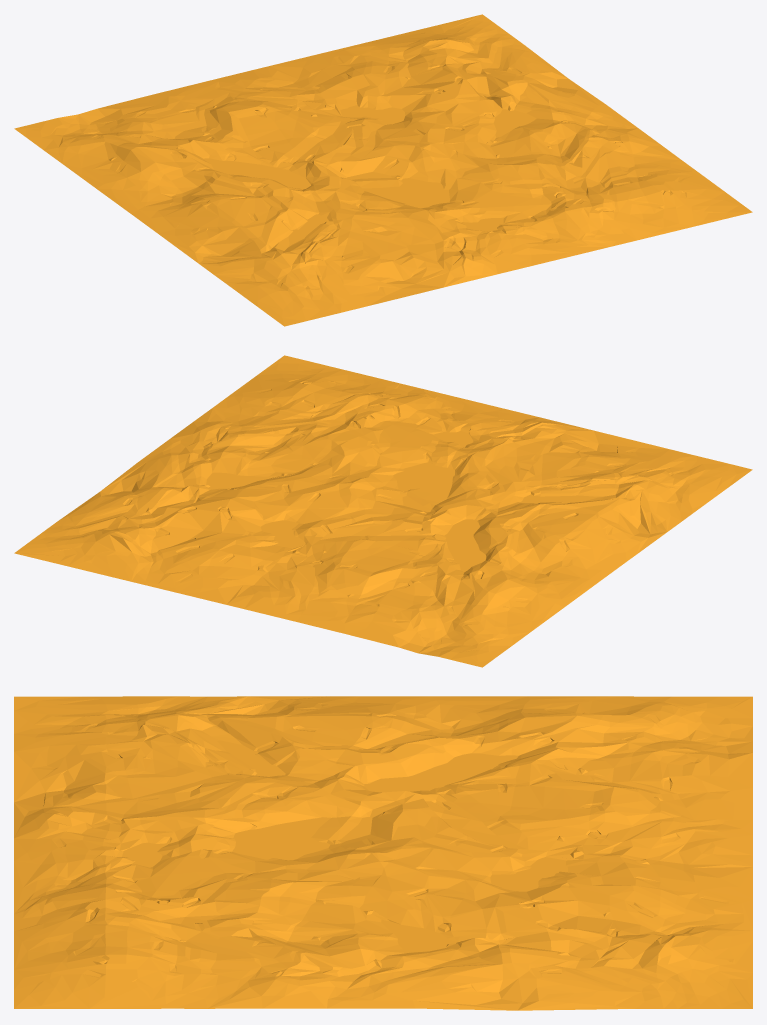
File: SM_Battleground_Mud_A_Fantasy.fbx
The picture shows the model from 3 angles, top to bottom: view 1: azimuth 30°, elevation 25°; view 2: azimuth 150°, elevation 25°; view 3: azimuth 270°, elevation 25°; orthographic projection. The views are drawn at different scales.
Parts seen in each view (by area): view 1: battleground-mud-ground-a-fantasy, battleground-mud-water-a-fantasy; view 2: battleground-mud-ground-a-fantasy, battleground-mud-water-a-fantasy; view 3: battleground-mud-ground-a-fantasy, battleground-mud-water-a-fantasy.
Boxes of the visible parts, x1,y1,x2,y2 form: battleground-mud-ground-a-fantasy: (14,14,752,326); battleground-mud-water-a-fantasy: (203,105,535,244); battleground-mud-ground-a-fantasy: (14,355,752,667); battleground-mud-water-a-fantasy: (206,430,596,572); battleground-mud-ground-a-fantasy: (14,696,752,1010); battleground-mud-water-a-fantasy: (122,740,568,952).
Size of the model in its own units: 9.97 by 0.4059 by 9.97.
